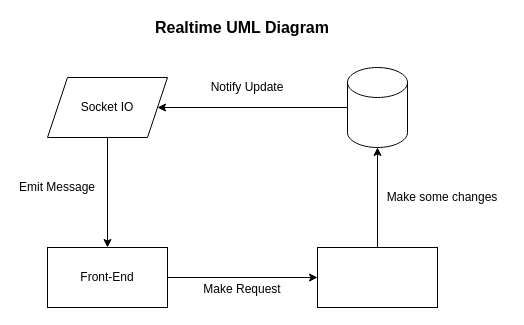
Some shapes in this 524 by 325 pixel diagram are drawn without their labels. The shapes that lost their labels are listed below. From the top down, each one's box as (x1, y1, x2, y2) in pixels, then its label:
(346, 66, 408, 148): Postgres
(316, 246, 438, 308): Back-End
